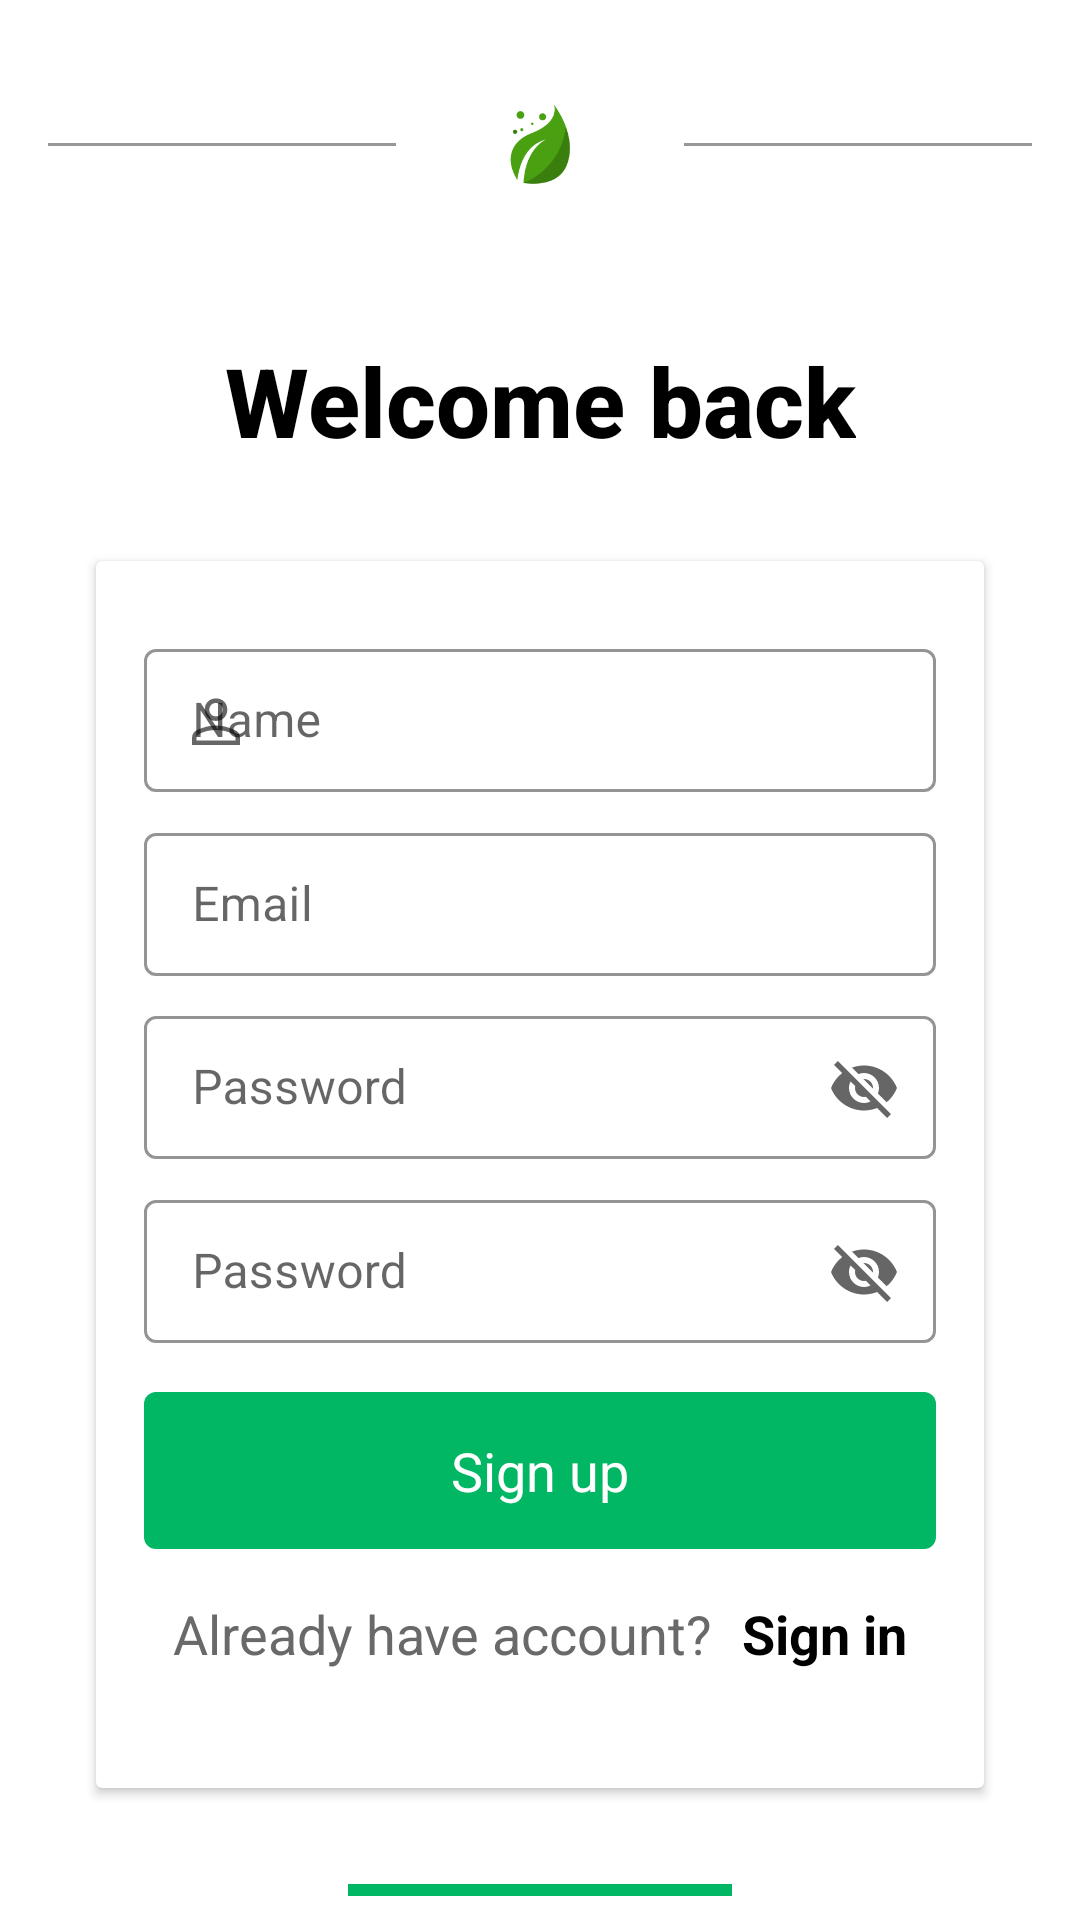

Where icons sit on this 1080×1920 app screen, as (x1, y1, x2, y2):
app: (510, 105, 570, 184)
